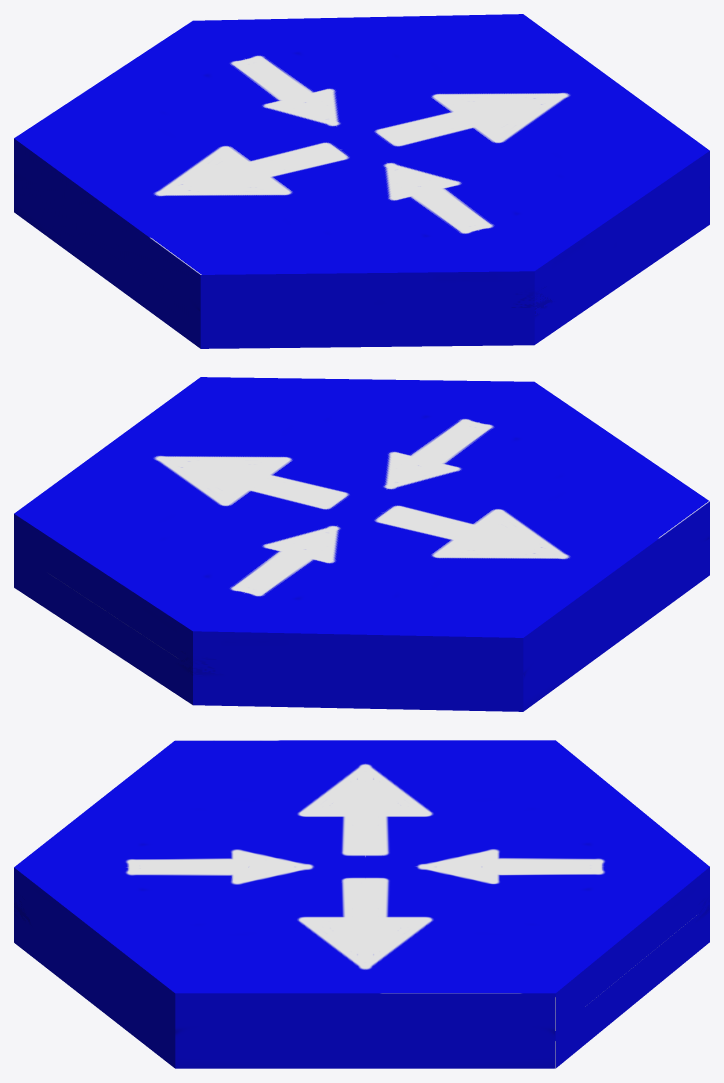
File: Adv_Router_Simple.fbx
3 views of the same model, one above another, from view 1: azimuth 30°, elevation 25°; view 2: azimuth 150°, elevation 25°; view 3: azimuth 270°, elevation 25° (orthographic).
Visible parts, largest first — view 1: Cube; view 2: Cube; view 3: Cube.
Part boxes in pixels (x1,y1,x2,y2): Cube: (14,14,709,348); Cube: (14,377,709,711); Cube: (14,740,709,1068).
Bounding box in the file's own units: 315 × 44.01 × 366.
1 material, 1 textured.
